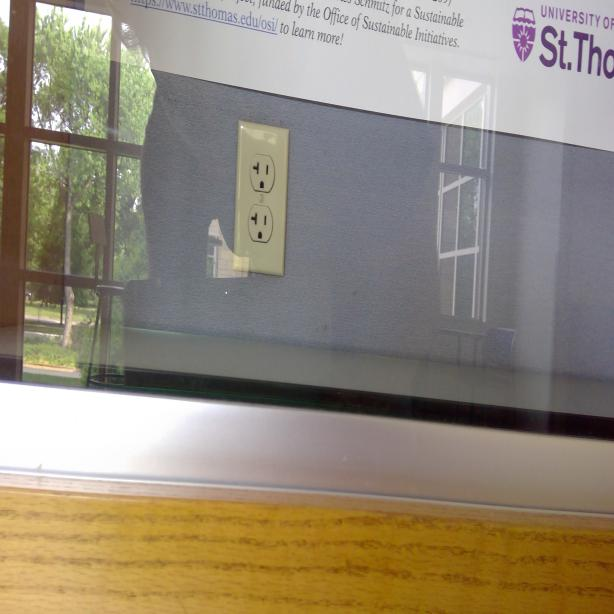typeb: (248, 154, 276, 194), (250, 208, 272, 245)
